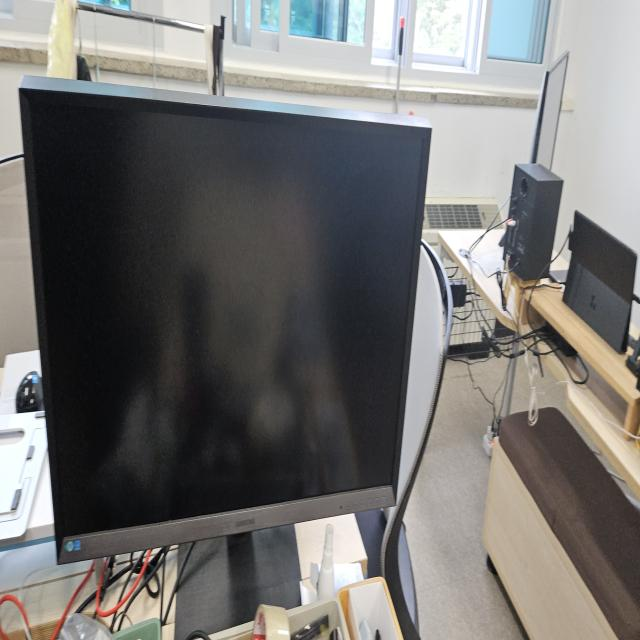Monitor: (17, 69, 433, 566)
